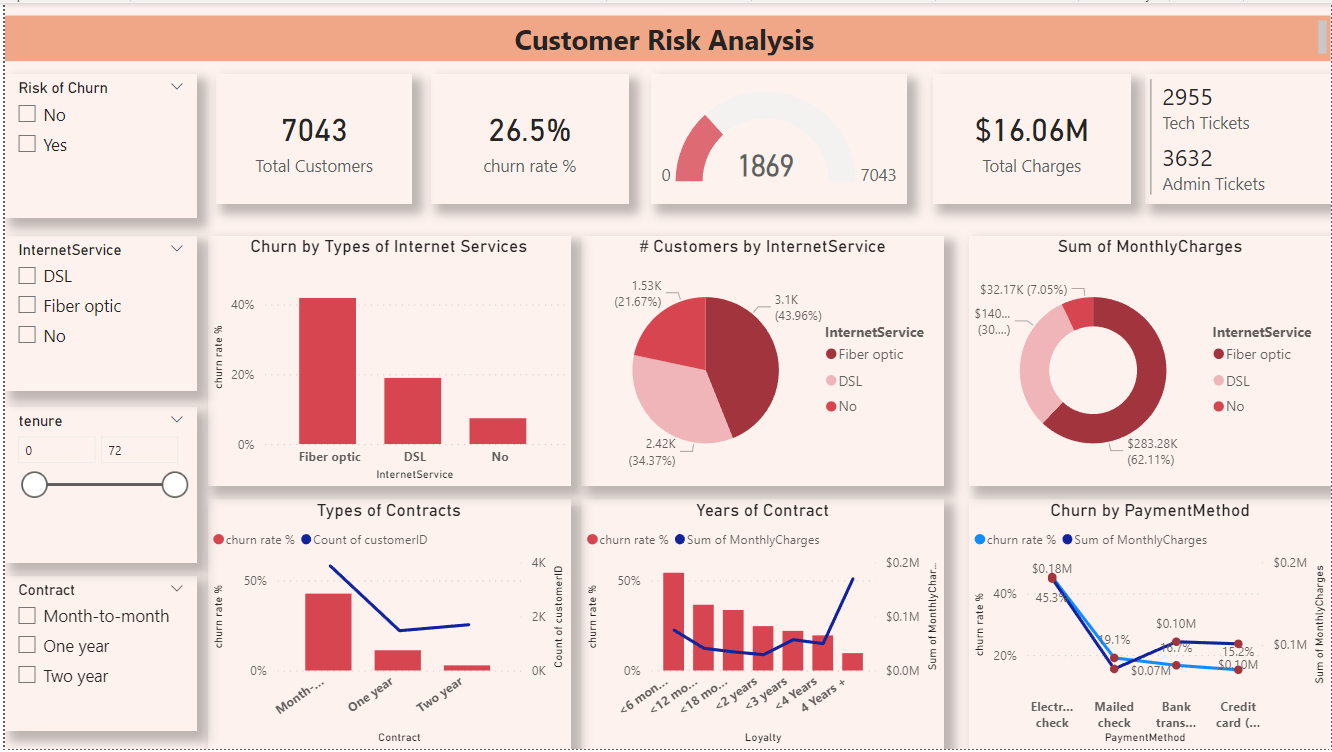

The dashboard page shown, as its layout file describes it:
{"tool":"powerbi","page":{"name":"Page 2","canvas":[1280,720],"ordinal":1},"visuals":[{"type":"textbox","box":[0,12.5,1280,43.8],"z":0},{"type":"slicer","fields":{"Values":["01 Churn-Dataset.Churn"]},"box":[0,68.8,185,138.8],"z":1},{"type":"slicer","fields":{"Values":["01 Churn-Dataset.InternetService"]},"box":[0,223.8,185,150],"z":2},{"type":"slicer","fields":{"Values":["01 Churn-Dataset.tenure"]},"box":[0,390,185,150],"z":3},{"type":"slicer","fields":{"Values":["01 Churn-Dataset.Contract"]},"box":[0,552.5,185,150],"z":4},{"type":"card","fields":{"Values":["Count(01 Churn-Dataset.customerID)"]},"box":[203.8,68.8,188.8,125],"z":5},{"type":"card","fields":{"Values":["01 Churn-Dataset.churn rate %"]},"box":[411.2,68.8,190,125],"z":6},{"type":"gauge","fields":{"MaxValue":["CountNonNull(01 Churn-Dataset.customerID)"],"Y":["01 Churn-Dataset.Count of Churn for Yes"]},"box":[623.8,68.8,246.2,125],"z":7},{"type":"card","fields":{"Values":["Sum(01 Churn-Dataset.TotalCharges)"]},"box":[895,68.8,191.2,125],"z":8},{"type":"multiRowCard","fields":{"Values":["Sum(01 Churn-Dataset.numTechTickets)","Sum(01 Churn-Dataset.numAdminTickets)"]},"box":[1100,68.8,180,125],"z":9},{"type":"columnChart","title":"Churn by Types of Internet Services","fields":{"Category":["01 Churn-Dataset.InternetService"],"Y":["01 Churn-Dataset.churn rate %"]},"box":[195,223.8,350,241.2],"z":10},{"type":"pieChart","title":"# Customers by InternetService","fields":{"Y":["CountNonNull(01 Churn-Dataset.customerID)"],"Category":["01 Churn-Dataset.InternetService"]},"box":[556.2,223.8,350,241.2],"z":11},{"type":"donutChart","title":"Sum of MonthlyCharges","fields":{"Category":["01 Churn-Dataset.InternetService"],"Y":["Sum(01 Churn-Dataset.MonthlyCharges)"]},"box":[930,223.8,350,241.2],"z":12},{"type":"lineStackedColumnComboChart","title":"Types of Contracts","fields":{"Category":["01 Churn-Dataset.Contract"],"Y":["01 Churn-Dataset.churn rate %"],"Y2":["CountNonNull(01 Churn-Dataset.customerID)"]},"box":[195,478.8,350,241.2],"z":13},{"type":"lineClusteredColumnComboChart","title":"Years of Contract","fields":{"Category":["01 Churn-Dataset.Loyalty"],"Y":["01 Churn-Dataset.churn rate %"],"Y2":["Sum(01 Churn-Dataset.MonthlyCharges)"]},"box":[556.2,478.8,350,241.2],"z":14},{"type":"lineChart","title":"Churn by PaymentMethod","fields":{"Category":["01 Churn-Dataset.PaymentMethod"],"Y":["01 Churn-Dataset.churn rate %"],"Y2":["Sum(01 Churn-Dataset.MonthlyCharges)"]},"box":[930,478.8,350,241.2],"z":15}]}

Visuals, with their boxes in screenshot pixels (x1, y1, x2, y2), scaled from the page's 1280x720 canvas onto the 1332x752 screenshot:
textbox: 0 13 1331 59
slicer - 01 Churn-Dataset.Churn: 0 72 193 217
slicer - 01 Churn-Dataset.InternetService: 0 234 193 390
slicer - 01 Churn-Dataset.tenure: 0 407 193 564
slicer - 01 Churn-Dataset.Contract: 0 577 193 734
card - Count(01 Churn-Dataset.customerID): 212 72 409 202
card - 01 Churn-Dataset.churn rate %: 428 72 626 202
gauge - CountNonNull(01 Churn-Dataset.customerID) x 01 Churn-Dataset.Count of Churn for Yes: 649 72 905 202
card - Sum(01 Churn-Dataset.TotalCharges): 931 72 1130 202
multiRowCard - Sum(01 Churn-Dataset.numTechTickets) x Sum(01 Churn-Dataset.numAdminTickets): 1145 72 1331 202
"Churn by Types of Internet Services" columnChart: 203 234 567 486
"# Customers by InternetService" pieChart: 579 234 943 486
"Sum of MonthlyCharges" donutChart: 968 234 1331 486
"Types of Contracts" lineStackedColumnComboChart: 203 500 567 751
"Years of Contract" lineClusteredColumnComboChart: 579 500 943 751
"Churn by PaymentMethod" lineChart: 968 500 1331 751
